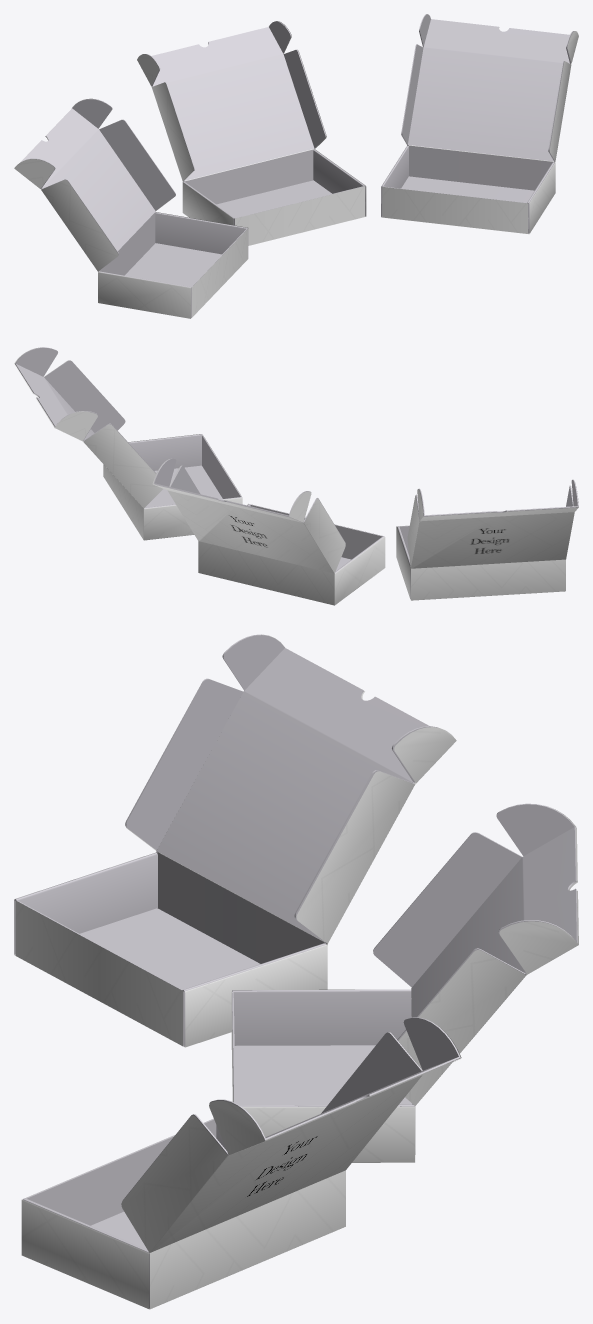
The model's file is Die Cut A-6.glb.
The picture shows the model from 3 angles, top to bottom: view 1: azimuth 30°, elevation 25°; view 2: azimuth 150°, elevation 25°; view 3: azimuth 270°, elevation 25°; orthographic projection. The views are drawn at different scales.
Visible parts, largest first — view 1: Box3.003, Box3.002, Box3.001, Box3-outer, Box3-outer.001, Box3-outer.002; view 2: Box3-outer.001, Box3-outer, Box3.003, Box3-outer.002, Box3.002, Box3.001; view 3: Box3.001, Box3-outer.002, Box3.002, Box3-outer, Box3-outer.001, Box3.003.
Part boxes in pixels (left/top/right/bottom): Box3.003: left=381, top=14, right=574, bottom=233; Box3.002: left=146, top=21, right=365, bottom=225; Box3.001: left=20, top=99, right=248, bottom=317; Box3-outer: left=14, top=98, right=248, bottom=318; Box3-outer.001: left=137, top=21, right=366, bottom=245; Box3-outer.002: left=381, top=14, right=578, bottom=234; Box3-outer.001: left=152, top=460, right=385, bottom=605; Box3-outer: left=396, top=487, right=578, bottom=600; Box3.003: left=15, top=347, right=241, bottom=508; Box3-outer.002: left=14, top=347, right=242, bottom=540; Box3.002: left=153, top=458, right=384, bottom=573; Box3.001: left=397, top=479, right=578, bottom=598; Box3.001: left=14, top=634, right=438, bottom=1046; Box3-outer.002: left=21, top=1028, right=461, bottom=1309; Box3.002: left=232, top=803, right=577, bottom=1106; Box3-outer: left=14, top=634, right=456, bottom=1047; Box3-outer.001: left=231, top=806, right=578, bottom=1162; Box3.003: left=23, top=1017, right=460, bottom=1308.
Bounding box in the file's own units: 14.62 × 3.34 × 7.08.
2 materials, 1 textured.
